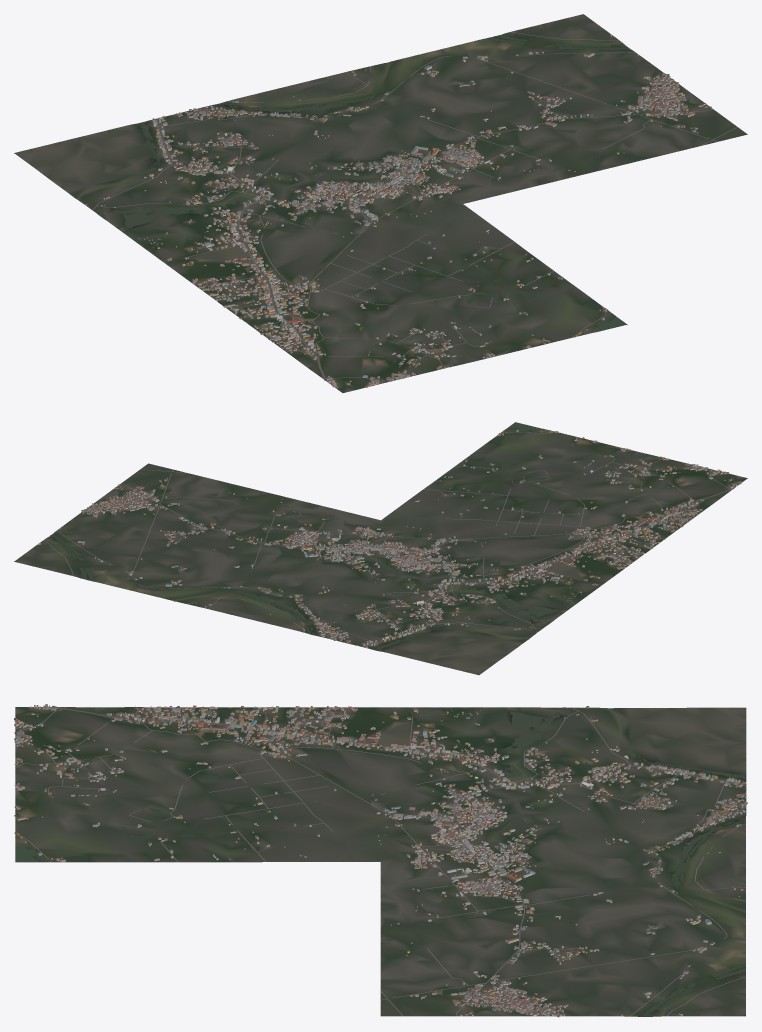
3 views of the same model, one above another, from view 1: azimuth 30°, elevation 25°; view 2: azimuth 150°, elevation 25°; view 3: azimuth 270°, elevation 25° (orthographic). The views are drawn at different scales.
Parts seen in each view (by area): view 1: ground, buildings, roads, water; view 2: ground, buildings, roads, water; view 3: ground, buildings, roads, water.
Boxes of the visible parts, bbox=[...] form: ground: bbox=[14, 14, 747, 392]; buildings: bbox=[84, 34, 711, 387]; roads: bbox=[92, 31, 737, 383]; water: bbox=[75, 35, 630, 331]; ground: bbox=[14, 425, 747, 675]; buildings: bbox=[38, 429, 741, 647]; roads: bbox=[43, 431, 734, 647]; water: bbox=[49, 422, 648, 650]; ground: bbox=[15, 707, 746, 1016]; buildings: bbox=[14, 704, 747, 1017]; roads: bbox=[15, 707, 746, 1016]; water: bbox=[15, 707, 745, 1016].
Bounding box in the file's own units: 2817 × 27.34 × 2816.
